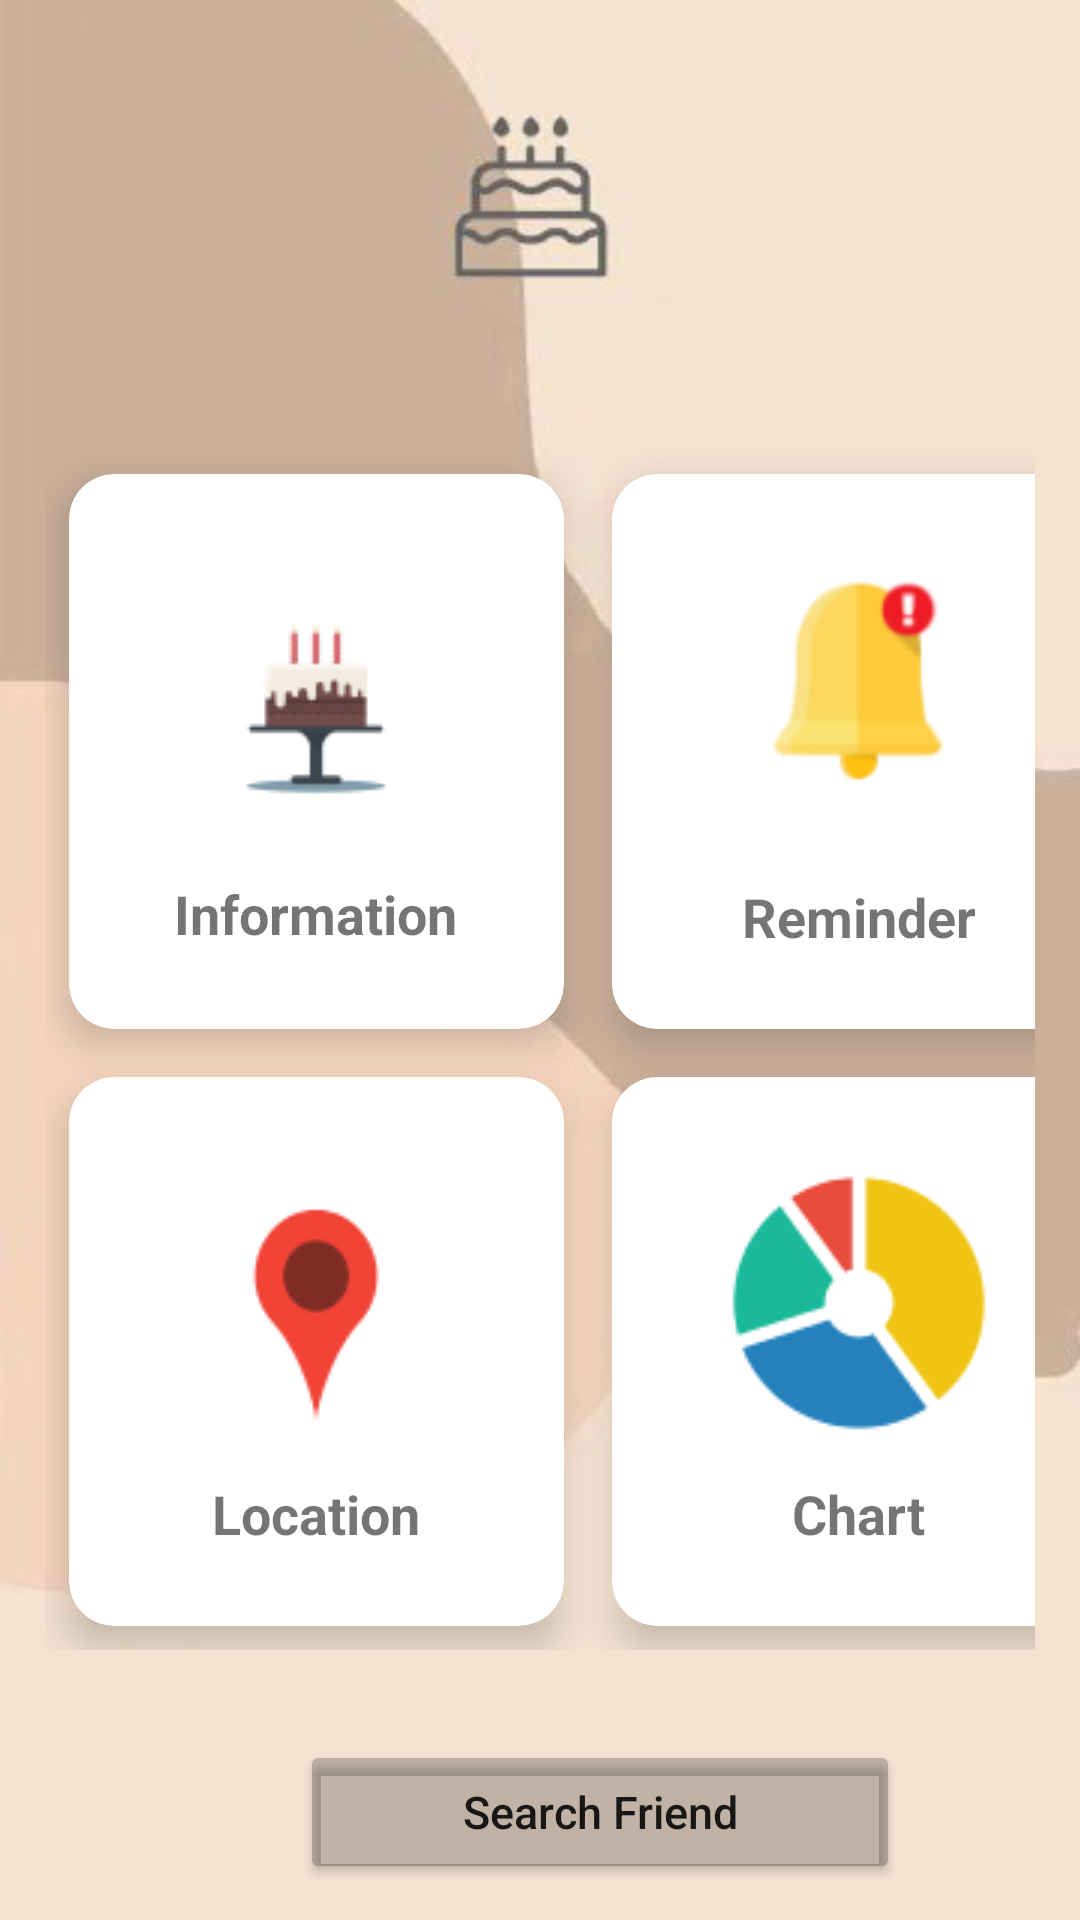

Icons on this 1080×1920 Android screen, each with the point to tap as (x,y):
map: (316,1313)
